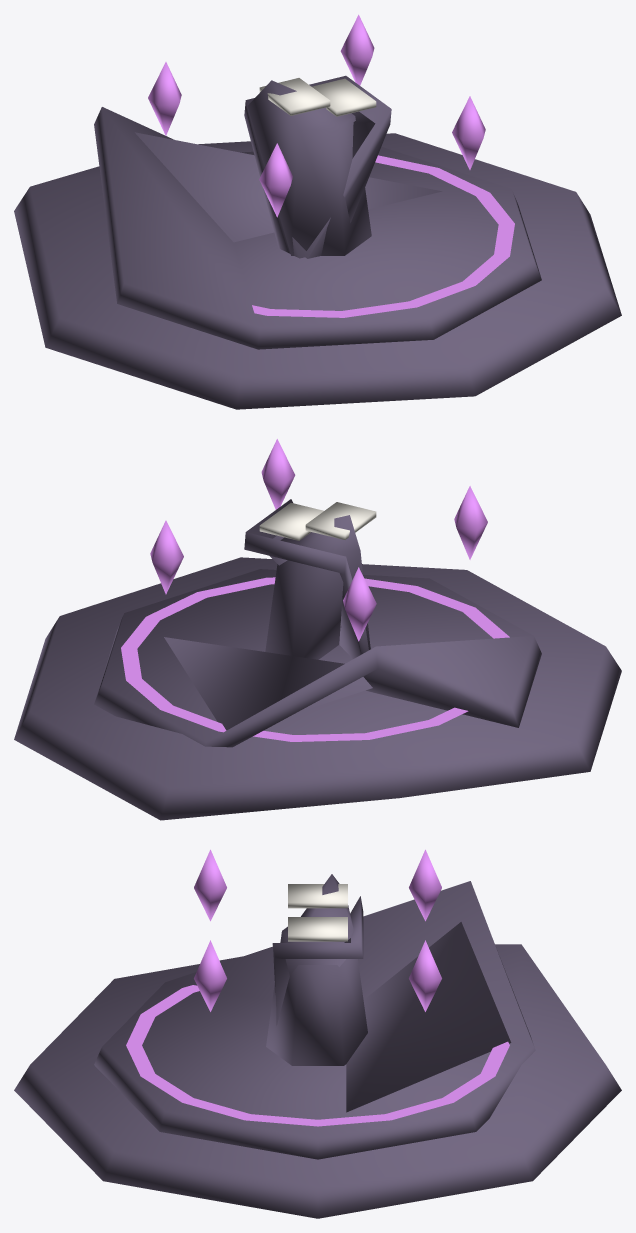
File: Station_Encantar_Combined.fbx
3 renders of one model, top to bottom at view 1: azimuth 30°, elevation 25°; view 2: azimuth 150°, elevation 25°; view 3: azimuth 270°, elevation 25°, orthographic. The views are drawn at different scales.
Visible parts, largest first — view 1: Station_Encantar_Combined; view 2: Station_Encantar_Combined; view 3: Station_Encantar_Combined.
Part boxes in pixels (<box>): Station_Encantar_Combined: <box>14,14,621,409</box>; Station_Encantar_Combined: <box>14,439,621,820</box>; Station_Encantar_Combined: <box>14,849,621,1218</box>.
Size of the model in its own units: 7.6 by 3.23 by 7.6.
